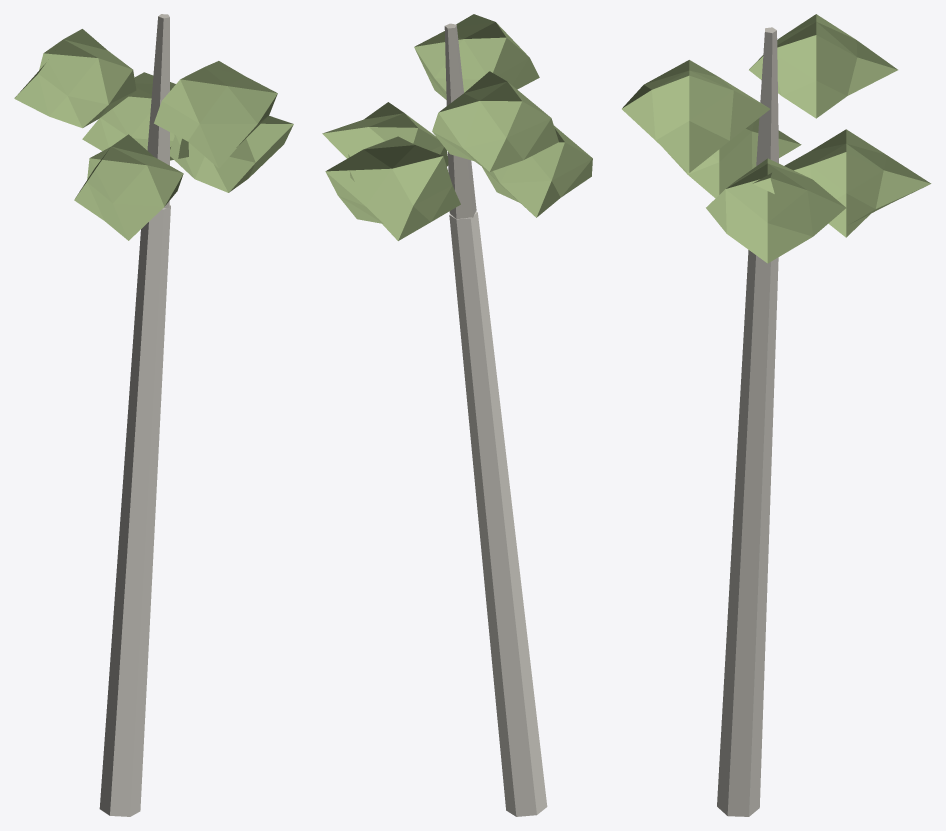
Rendered from birch_v07.glb.
3 renders of one model, left to right at view 1: azimuth 30°, elevation 25°; view 2: azimuth 150°, elevation 25°; view 3: azimuth 270°, elevation 25°, orthographic. The views are drawn at different scales.
Parts seen in each view (by area): view 1: lod0; view 2: lod0; view 3: lod0.
Boxes of the visible parts, x1,y1,x2,y2 form: lod0: (14, 14, 293, 816); lod0: (322, 14, 592, 816); lod0: (622, 14, 931, 816).
Size of what is drawn, in the model's own units: 1.89 by 5.41 by 1.88.
